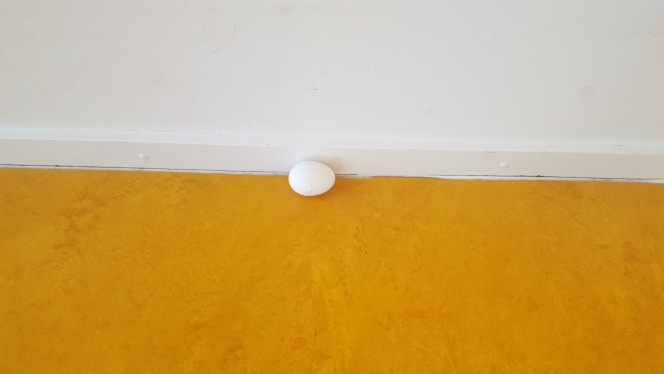egg: (288, 159, 337, 197)
